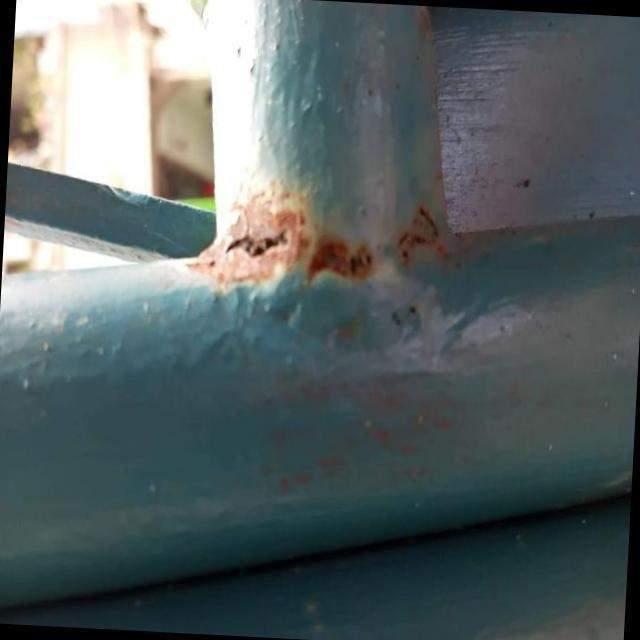defect: (222, 218, 297, 261)
